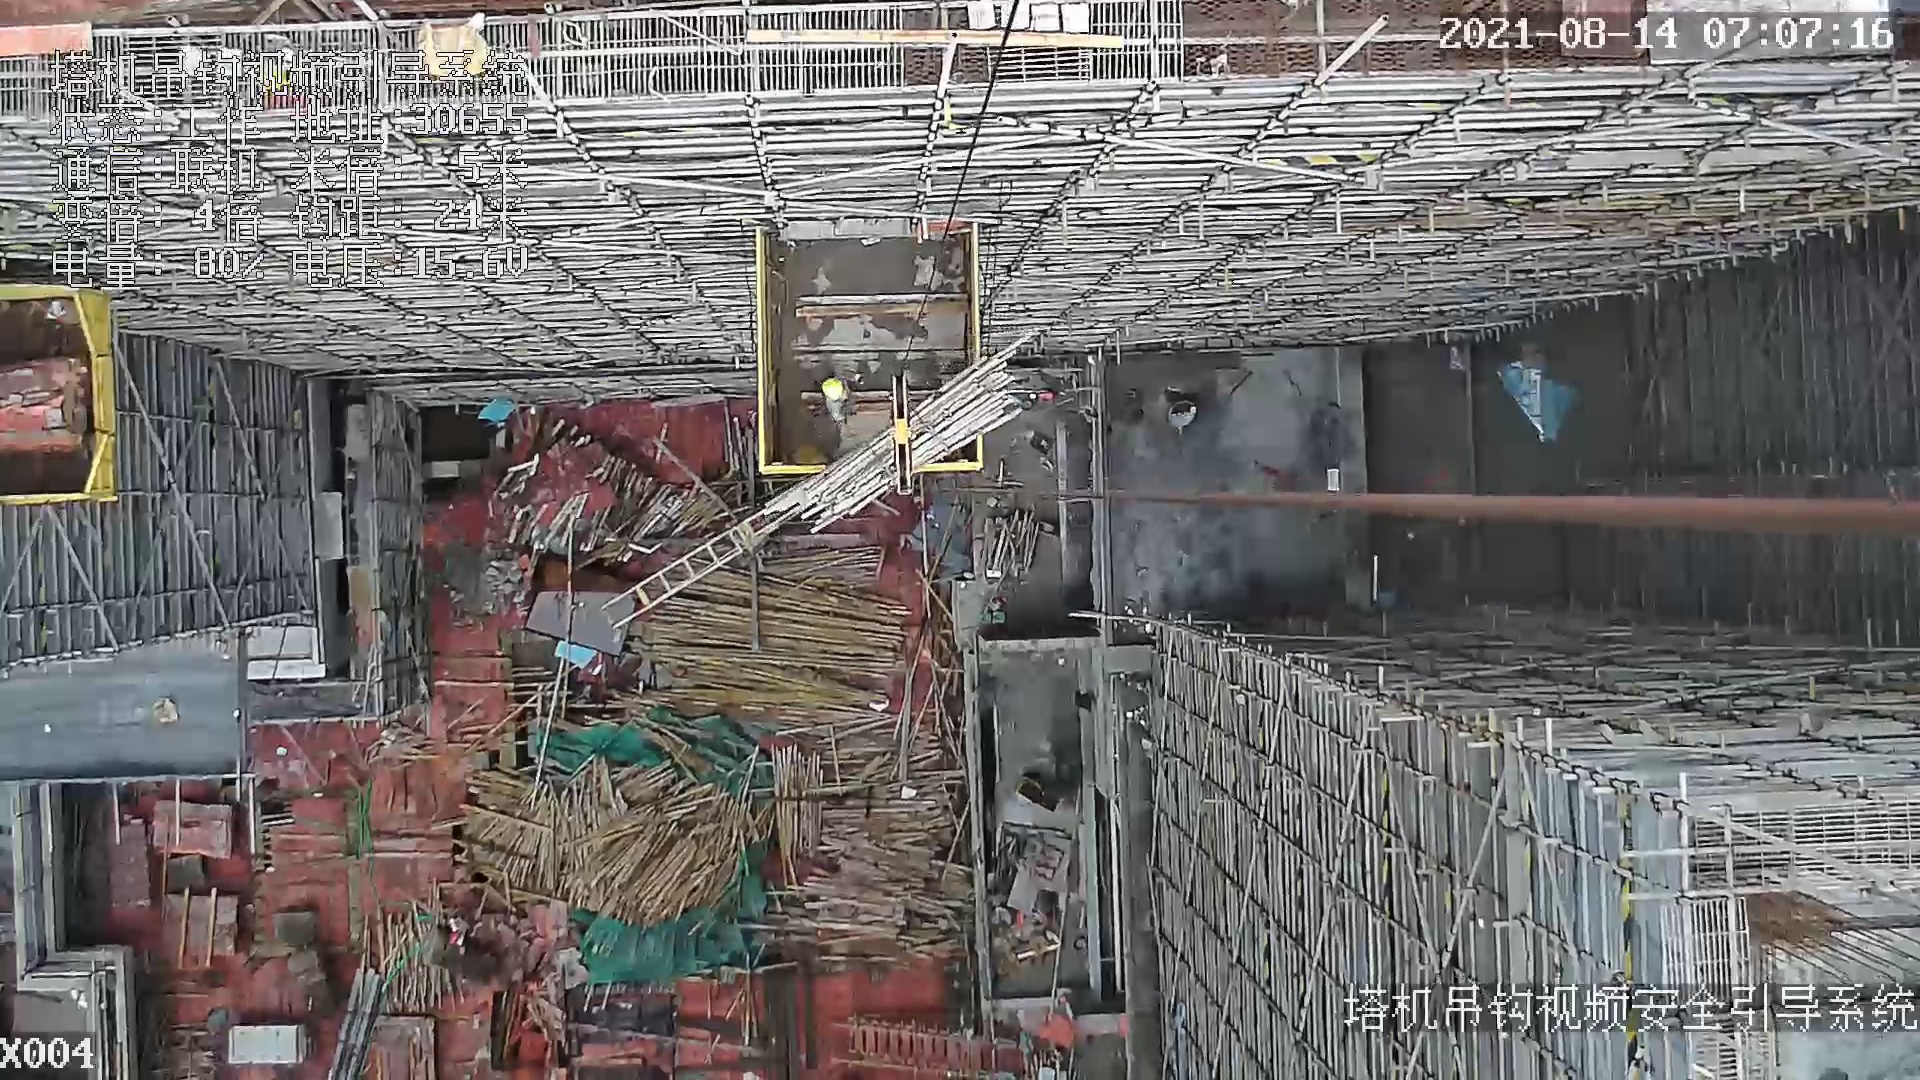helmet: (824, 377, 844, 403)
hook: (886, 372, 920, 496)
person: (822, 380, 856, 424)
